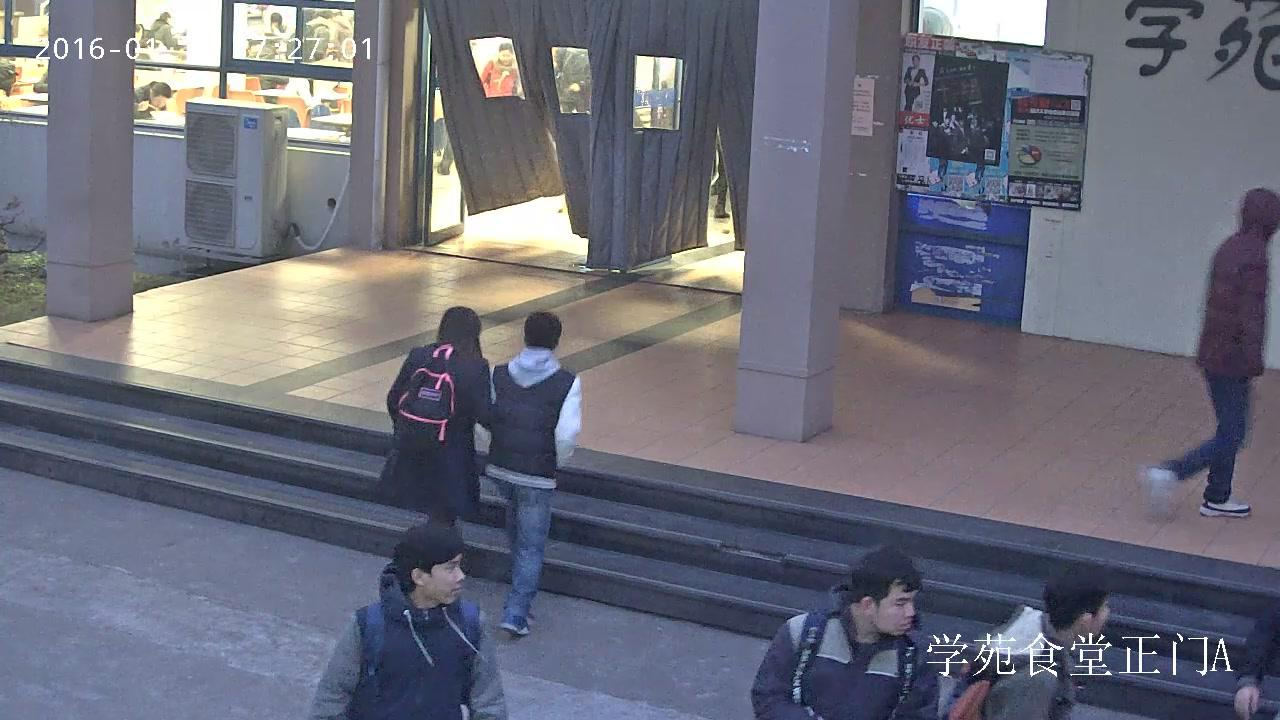person: (1143, 186, 1277, 518), (310, 522, 508, 720), (749, 542, 942, 720), (484, 312, 584, 637), (934, 560, 1113, 718), (379, 305, 490, 528), (480, 43, 517, 97), (132, 80, 170, 119), (903, 54, 928, 111), (144, 13, 178, 49)
